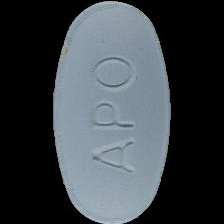50268-613: (0, 0, 224, 224)
